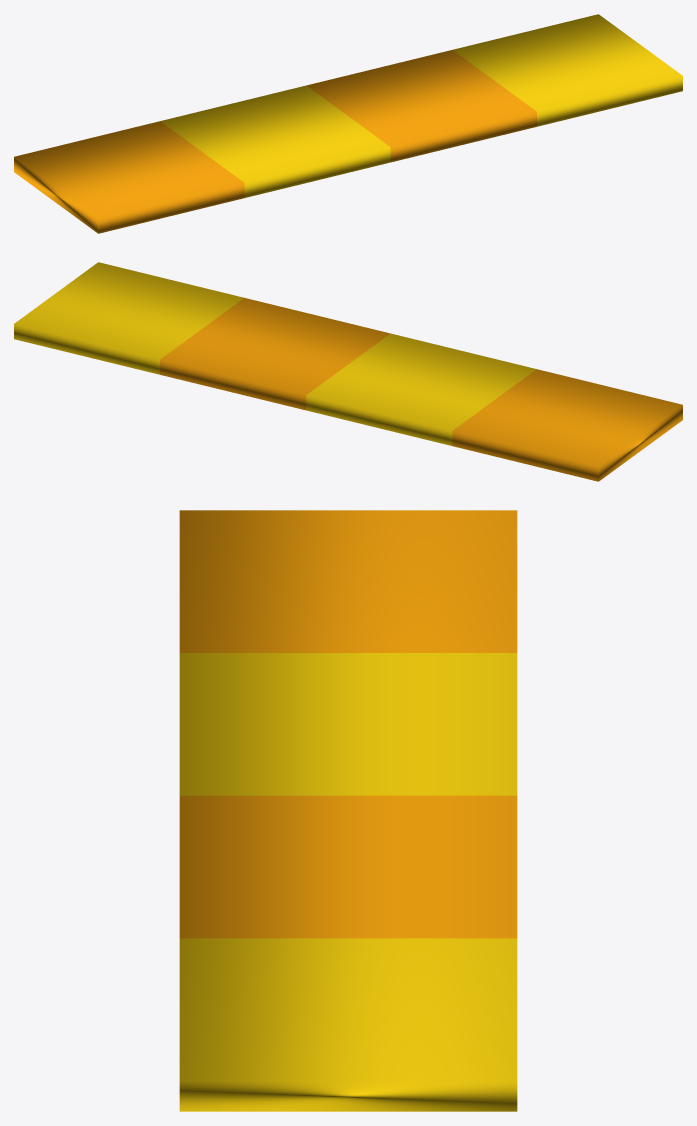
File: Daskex4Debele.fbx
3 renders of one model, top to bottom at view 1: azimuth 30°, elevation 25°; view 2: azimuth 150°, elevation 25°; view 3: azimuth 270°, elevation 25°, orthographic. The views are drawn at different scales.
Visible parts, largest first — view 1: Plane; view 2: Plane; view 3: Plane.
Part boxes in pixels (x1,y1,x2,y2): Plane: (14, 14, 682, 233); Plane: (14, 262, 682, 481); Plane: (179, 510, 517, 1111).
Size of the model in its own units: 4 by 0.1 by 1.
